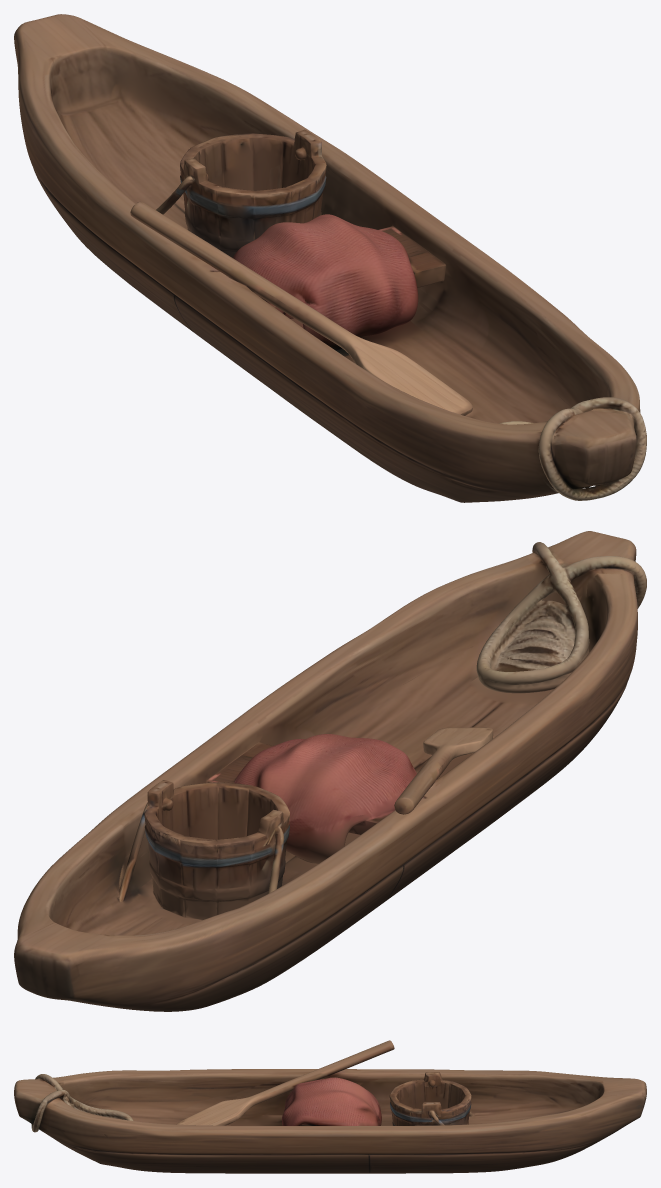
File: Balsa.fbx
3 renders of one model, top to bottom at view 1: azimuth 30°, elevation 25°; view 2: azimuth 150°, elevation 25°; view 3: azimuth 270°, elevation 25°, orthographic. The views are drawn at different scales.
Parts seen in each view (by area): view 1: Mesh_0; view 2: Mesh_0; view 3: Mesh_0.
Boxes of the visible parts, <box> form: Mesh_0: <box>14,14,646,502</box>; Mesh_0: <box>14,531,646,1011</box>; Mesh_0: <box>14,1040,646,1173</box>.
Bounding box in the file's own units: 31.46 × 15.14 × 119.
1 material, 1 textured.
